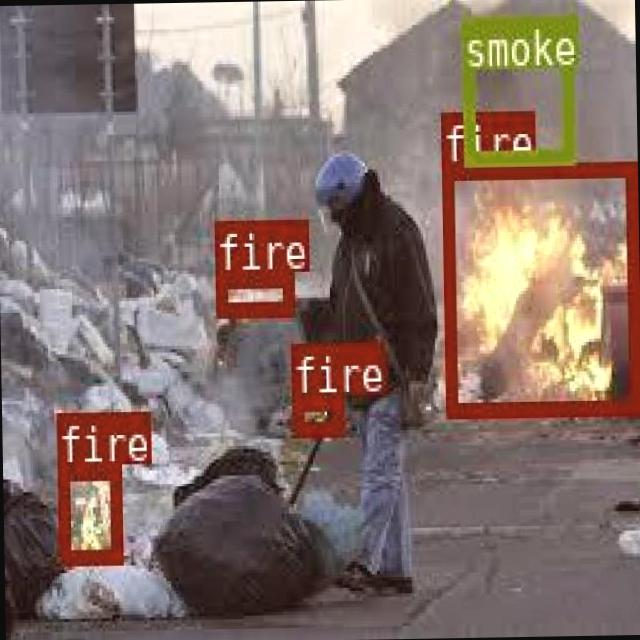fire: (439, 160, 636, 412), (56, 462, 119, 562), (215, 271, 292, 314), (290, 392, 340, 432)
smoke: (460, 14, 571, 162)
